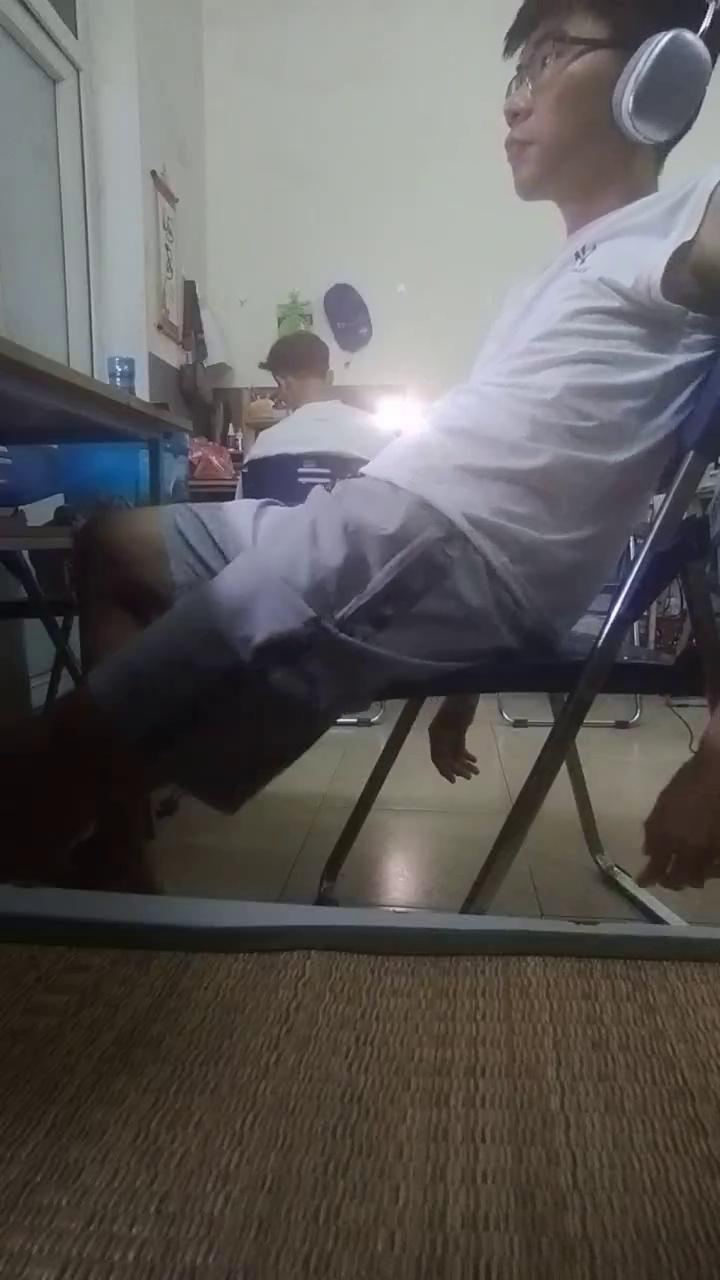BadPosture: (0, 0, 719, 884)
